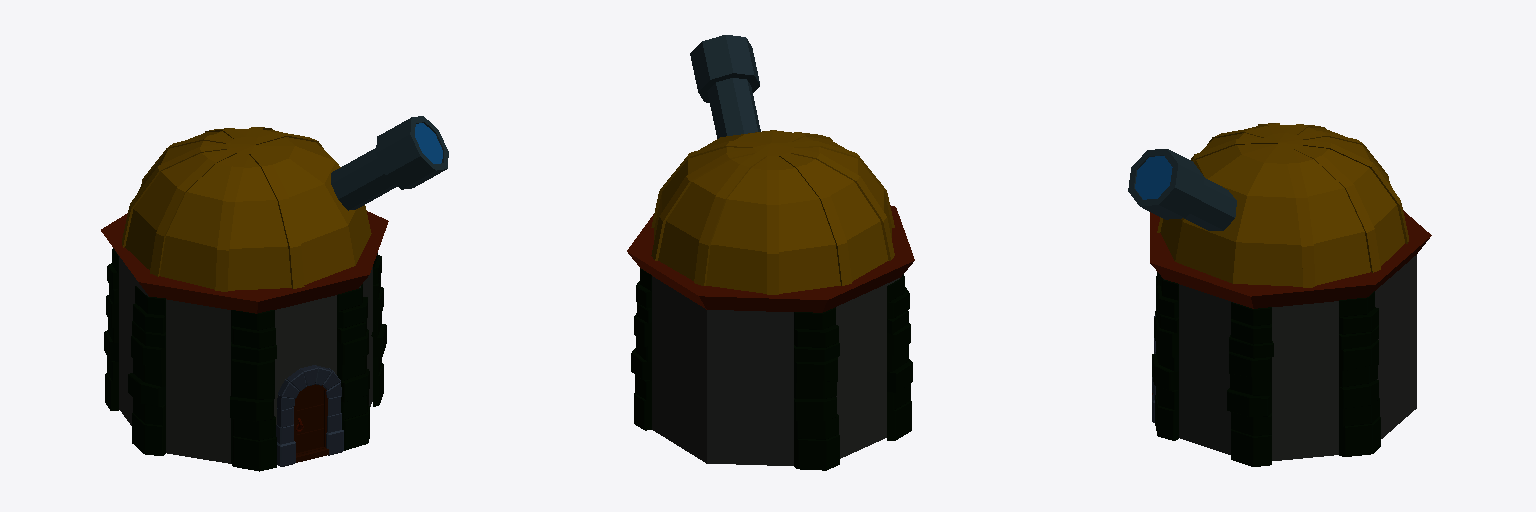
Rendered from WizardShop.obj.
3 renders of one model, left to right at view 1: azimuth 30°, elevation 25°; view 2: azimuth 150°, elevation 25°; view 3: azimuth 270°, elevation 25°, orthographic.
Visible parts, largest first — view 1: Wizard_Shop_Circle.001; view 2: Wizard_Shop_Circle.001; view 3: Wizard_Shop_Circle.001.
Boxes of the visible parts, x1=… form: Wizard_Shop_Circle.001: x1=101, y1=116, x2=448, y2=471; Wizard_Shop_Circle.001: x1=627, y1=35, x2=914, y2=470; Wizard_Shop_Circle.001: x1=1128, y1=123, x2=1431, y2=466.
Bounding box in the file's own units: 9.78 × 10.99 × 9.72.